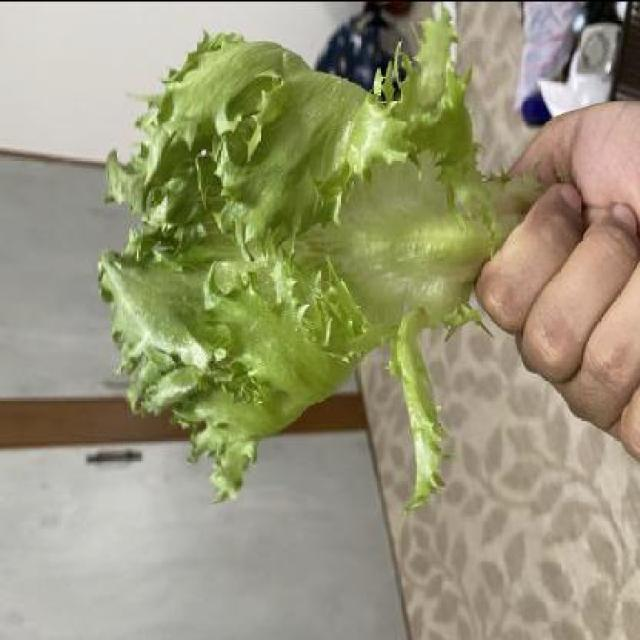Lettuce: (96, 0, 513, 501)
